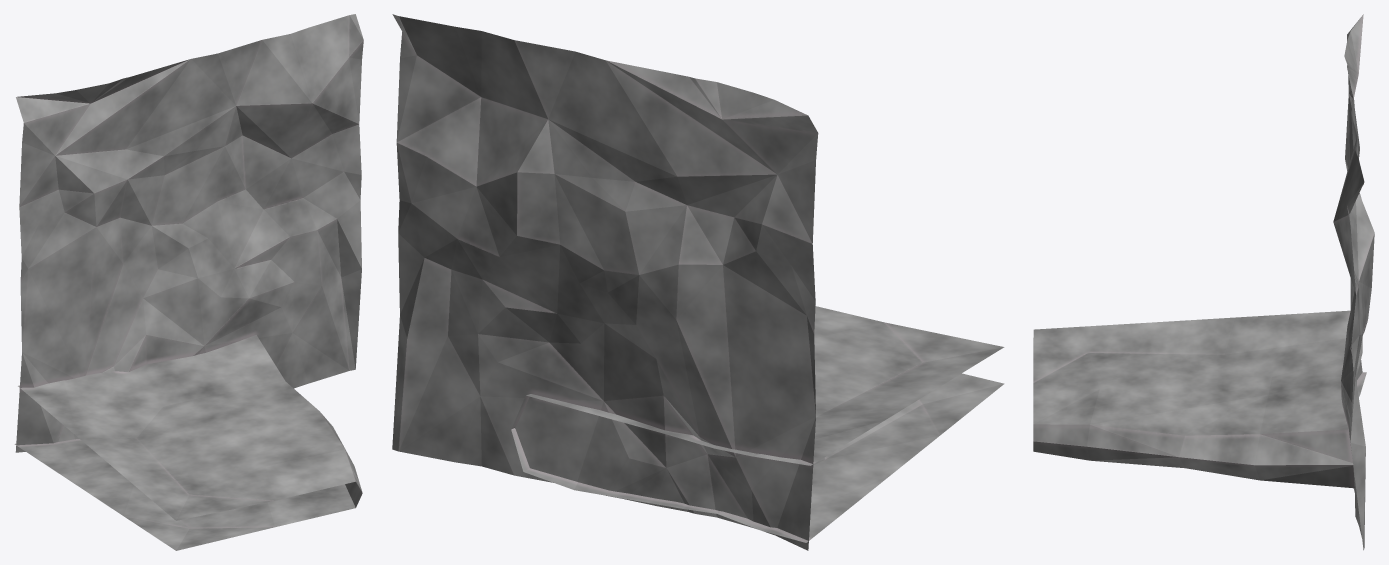
File: WallShelfEnd3.gltf
3 views of the same model, side by side, from view 1: azimuth 30°, elevation 25°; view 2: azimuth 150°, elevation 25°; view 3: azimuth 270°, elevation 25° (orthographic). The views are drawn at different scales.
Parts seen in each view (by area): view 1: WallShelfEnd3; view 2: WallShelfEnd3; view 3: WallShelfEnd3.
Part boxes in pixels (box(x1,y1,x2,y2)): WallShelfEnd3: box(14, 14, 363, 550); WallShelfEnd3: box(392, 14, 1004, 550); WallShelfEnd3: box(1033, 14, 1374, 550).
Size of the model in its own units: 5 by 5 by 4.23.
1 material, 1 textured.
